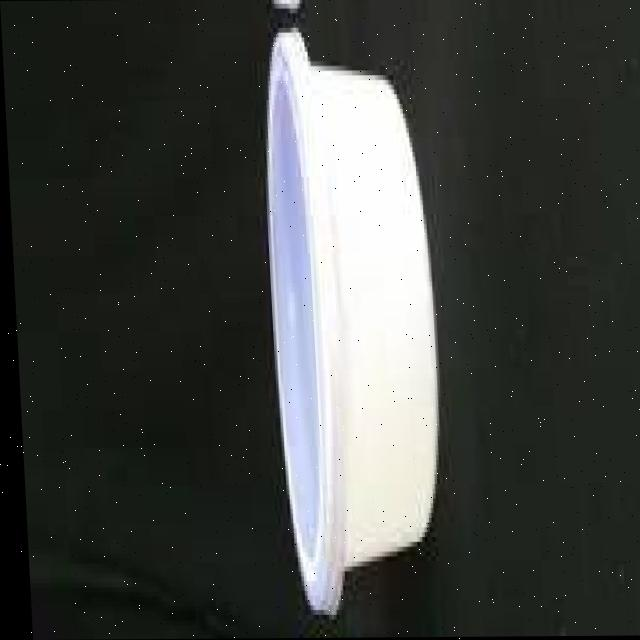disposable: (230, 0, 461, 634)
